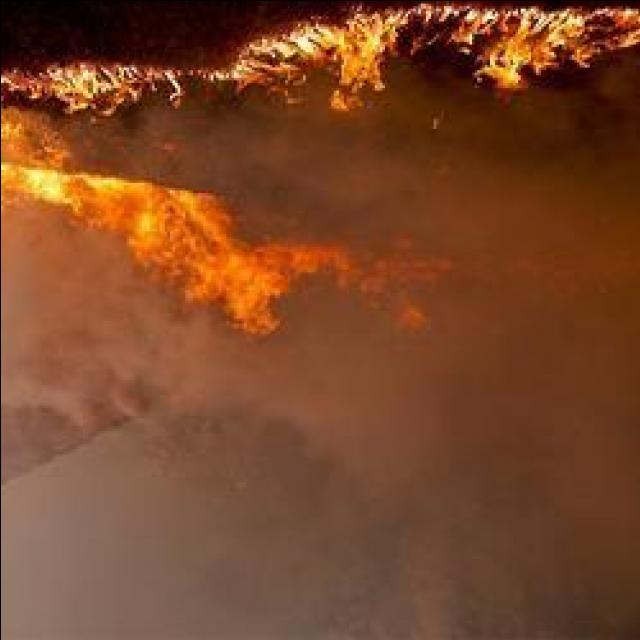fire: (244, 0, 640, 79), (46, 169, 248, 254), (15, 58, 199, 108)
smoke: (340, 169, 640, 471), (8, 324, 228, 420)
